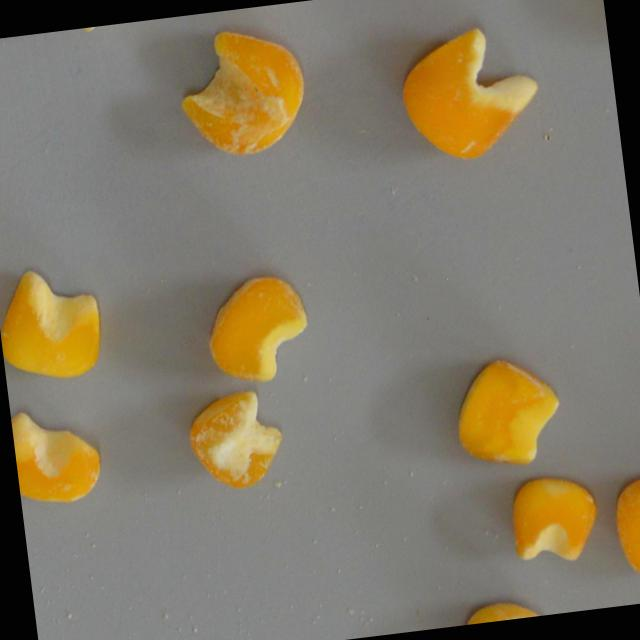no_canjicado: (394, 21, 544, 168), (0, 262, 105, 385), (505, 470, 600, 567)
pelicula: (172, 22, 311, 163), (447, 352, 565, 472), (200, 272, 312, 387), (182, 386, 286, 491), (9, 402, 105, 508), (608, 476, 640, 584), (454, 597, 545, 626)
